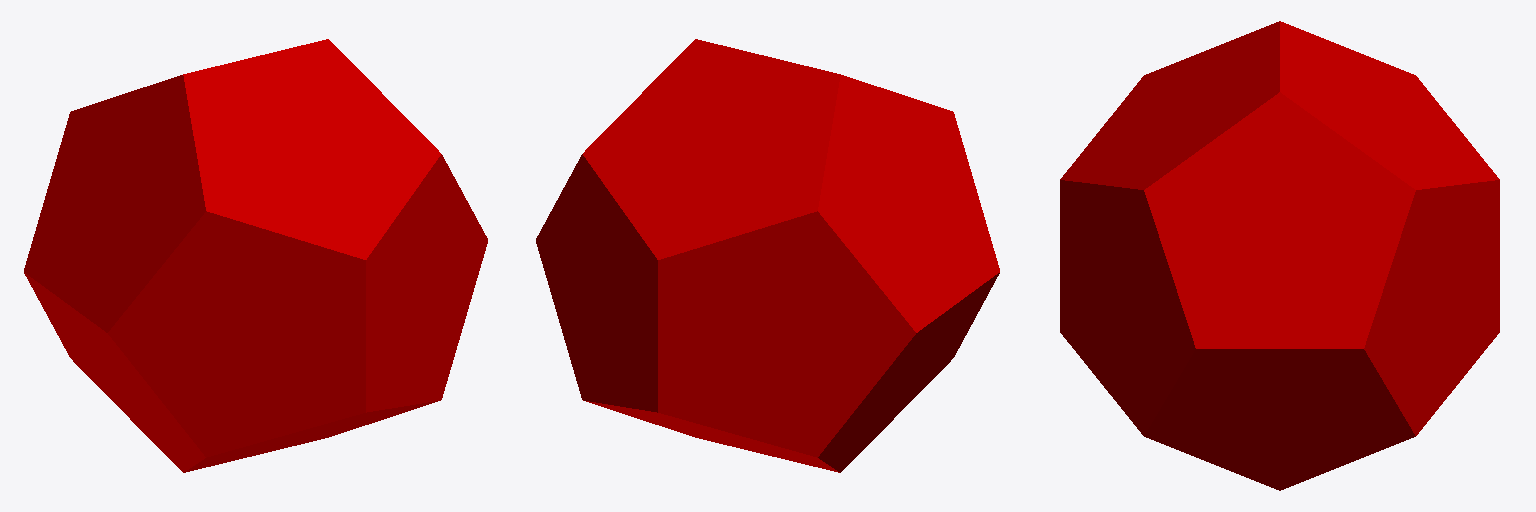
File: explosion.obj
The picture shows the model from 3 angles: view 1: azimuth 30°, elevation 25°; view 2: azimuth 150°, elevation 25°; view 3: azimuth 270°, elevation 25°; orthographic projection.
Visible parts, largest first — view 1: Platonic; view 2: Platonic; view 3: Platonic.
Part boxes in pixels (left/top/right/bottom): Platonic: left=24, top=39, right=487, bottom=472; Platonic: left=536, top=39, right=999, bottom=472; Platonic: left=1060, top=21, right=1499, bottom=490.
Bounding box in the file's own units: 187 × 187 × 187.